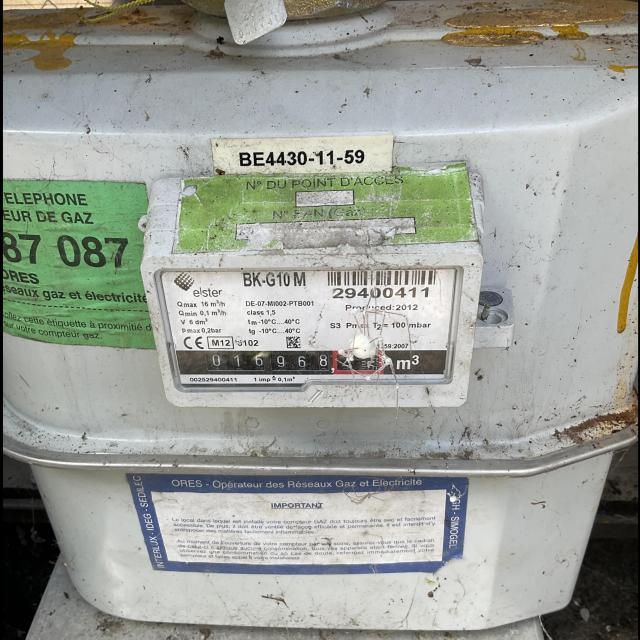gaz_meter: (165, 270, 456, 388)
indication: (204, 344, 386, 377)
